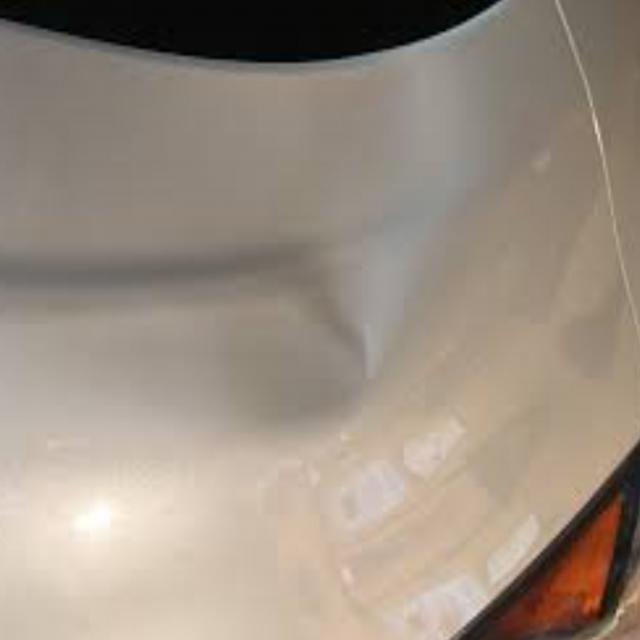dents: (0, 231, 380, 440)
